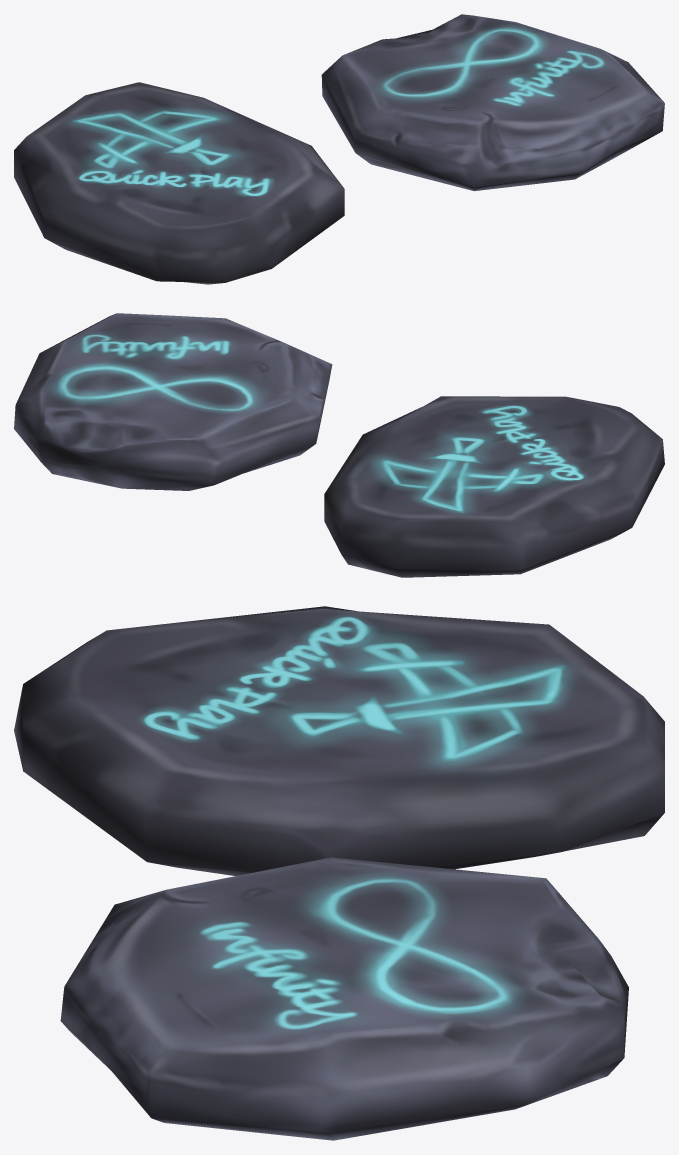
File: item_Runes.fbx
3 renders of one model, top to bottom at view 1: azimuth 30°, elevation 25°; view 2: azimuth 150°, elevation 25°; view 3: azimuth 270°, elevation 25°, orthographic. The views are drawn at different scales.
Parts seen in each view (by area): view 1: quickPlay, infinity; view 2: quickPlay, infinity; view 3: quickPlay, infinity.
Part boxes in pixels (box(x1,y1,x2,y2)): quickPlay: box(14, 82, 344, 284); infinity: box(321, 14, 664, 191); quickPlay: box(324, 396, 664, 577); infinity: box(14, 313, 332, 490); quickPlay: box(14, 606, 664, 875); infinity: box(60, 857, 628, 1140).
Size of the model in its own units: 43.98 by 5.57 by 24.75.
